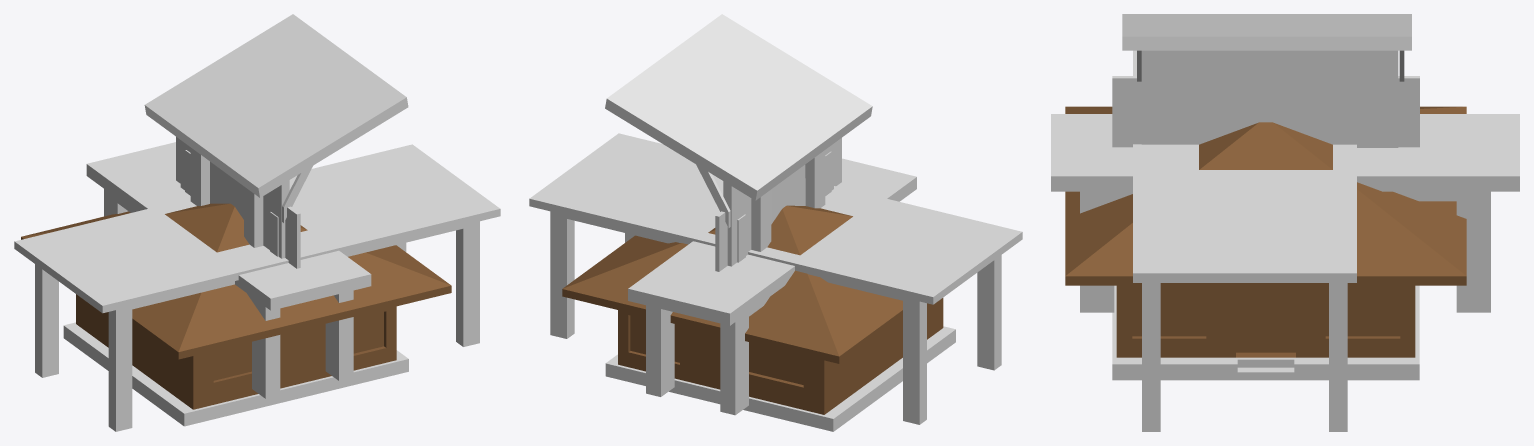
Rendered from cabana.fbx.
3 views of the same model, side by side, from view 1: azimuth 30°, elevation 25°; view 2: azimuth 150°, elevation 25°; view 3: azimuth 270°, elevation 25° (orthographic). The views are drawn at different scales.
Parts seen in each view (by area): view 1: Cube.006, Cube, Plane.001, Cube.001, Plane, Cube.004, Cube.005, Cube.008, Cube.009, Cube.007; view 2: Cube.006, Cube, Plane.001, Cube.001, Plane, Cube.004, Cube.005, Cube.008, Cube.009, Cube.007; view 3: Cube, Cube.006, Cube.004, Cube.001, Plane.001, Plane, Cube.008.
Boxes of the visible parts, x1,y1,x2,y2 form: Cube.006: (14,144,500,431); Cube: (21,203,451,409); Plane.001: (144,14,408,197); Cube.001: (86,142,371,398); Plane: (63,322,408,426); Cube.004: (180,140,289,258); Cube.005: (190,147,263,247); Cube.008: (176,137,300,268); Cube.009: (185,150,278,256); Cube.007: (178,139,312,222); Cube.006: (529,133,1022,424); Cube: (562,205,943,414); Plane.001: (605,14,872,200); Cube.001: (628,158,916,415); Plane: (605,326,955,431); Cube.004: (723,143,833,266); Cube.005: (751,150,825,251); Cube.008: (715,138,841,271); Cube.009: (737,151,831,262); Cube.007: (696,143,835,227); Cube: (1065,106,1466,357); Cube.006: (1133,50,1356,431); Cube.004: (1141,50,1398,147); Cube.001: (1051,114,1519,312); Plane.001: (1122,14,1411,50); Plane: (1112,285,1419,380); Cube.008: (1112,76,1419,147).
Size of the model in its own units: 792 by 522 by 635.
